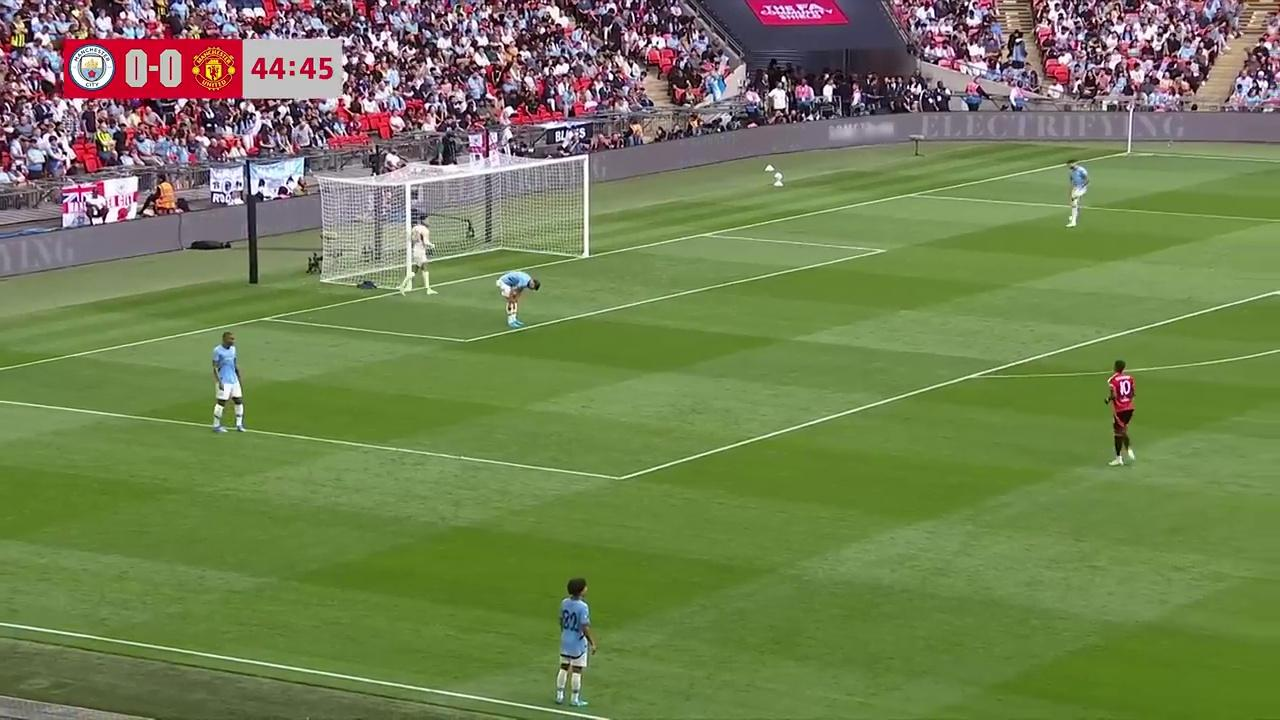player: (555, 579, 596, 704), (1105, 360, 1135, 467), (214, 330, 244, 434), (402, 211, 434, 297), (496, 267, 540, 328), (1063, 159, 1089, 227)
